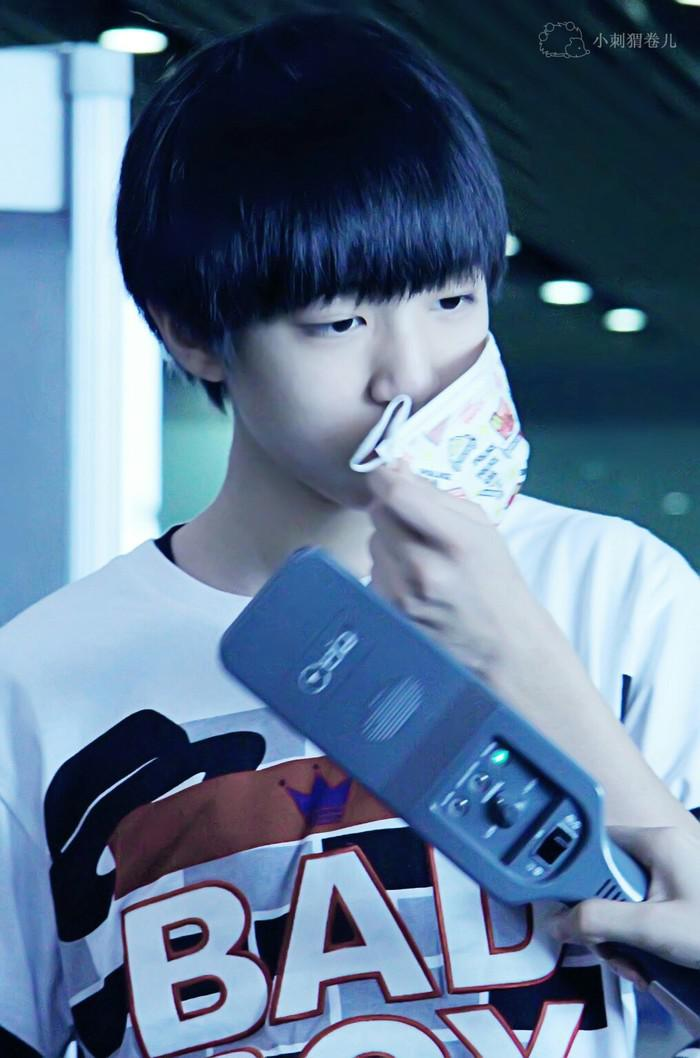WRONG: (261, 261, 508, 508)
